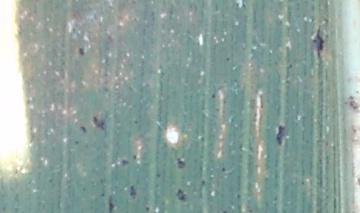tarspot: (310, 23, 325, 61), (274, 123, 287, 146), (91, 115, 106, 131), (346, 94, 360, 111), (175, 188, 188, 203), (175, 156, 187, 171), (107, 193, 116, 213), (128, 183, 137, 202), (78, 125, 88, 134), (120, 158, 129, 168), (77, 46, 85, 56), (46, 177, 55, 184), (355, 176, 360, 188), (200, 178, 207, 186), (235, 192, 242, 200), (144, 205, 151, 213), (98, 191, 106, 198), (239, 1, 247, 8), (210, 91, 216, 100), (131, 154, 138, 161), (224, 55, 231, 61), (154, 172, 160, 179), (132, 119, 138, 126), (73, 139, 79, 146), (220, 165, 225, 172), (234, 2, 239, 8), (221, 209, 227, 213)
